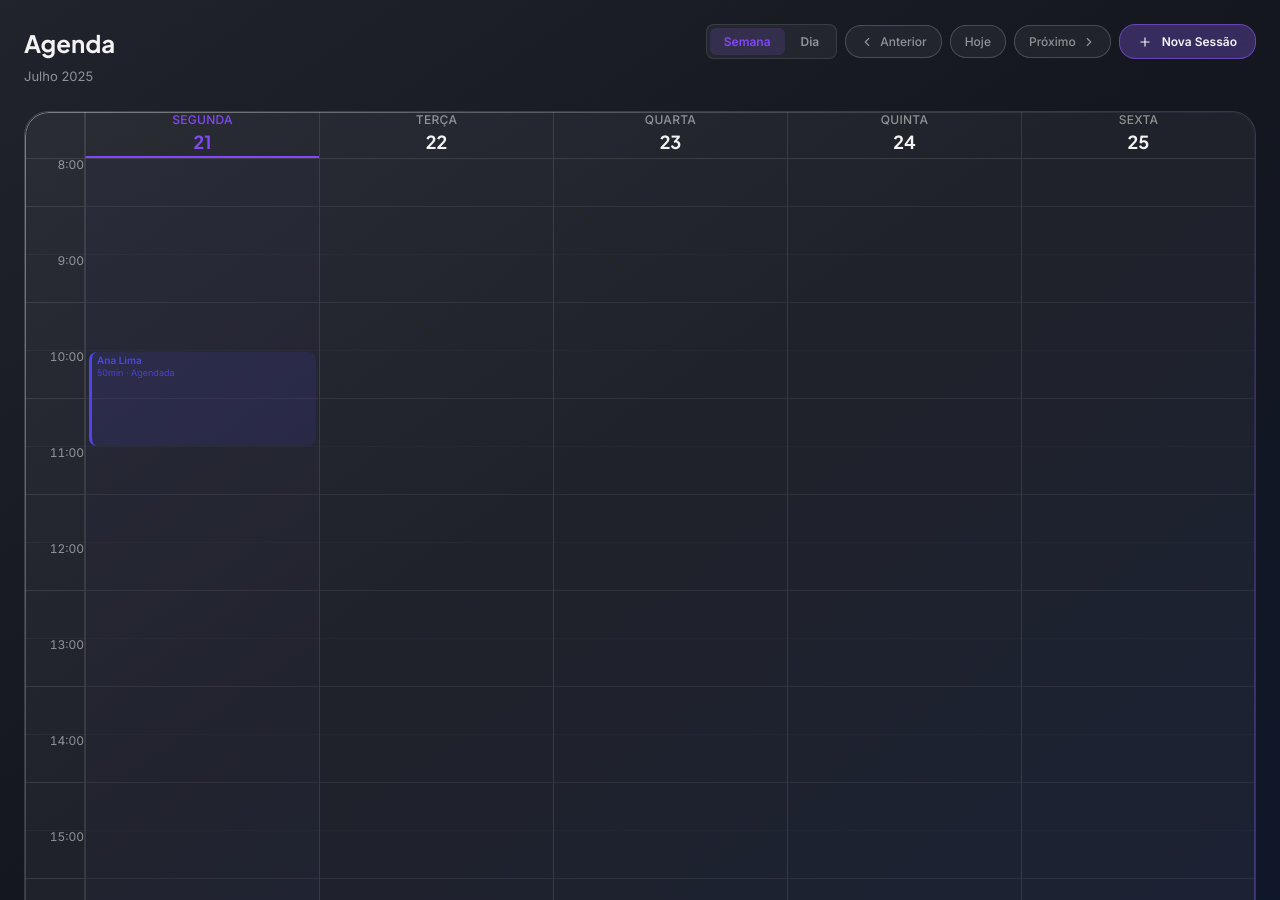
Test case: AgendaPage › botão "Nova Sessão" abre o modal SessionForm em modo criação
What coordinates should you click on to do the following:
click the button "Nova Sessão"
I would click on:
 (1187, 42)
Its box is left=1119, top=24, right=1256, bottom=59.
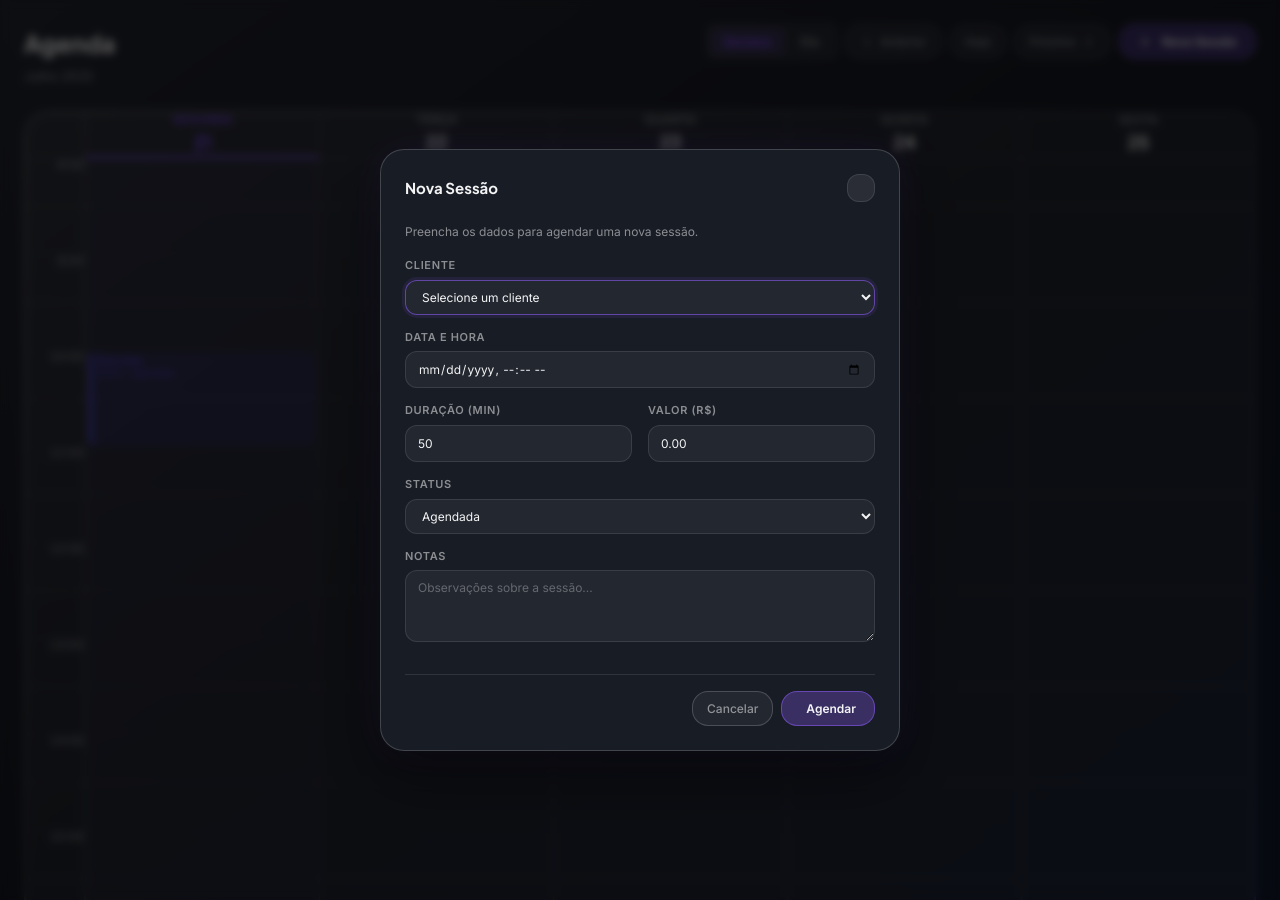
Result: the dialog is shown at left=380, top=149, right=900, bottom=751
Result: the text "Preencha os dados para agendar uma nova sessão." is shown at left=405, top=224, right=698, bottom=239
